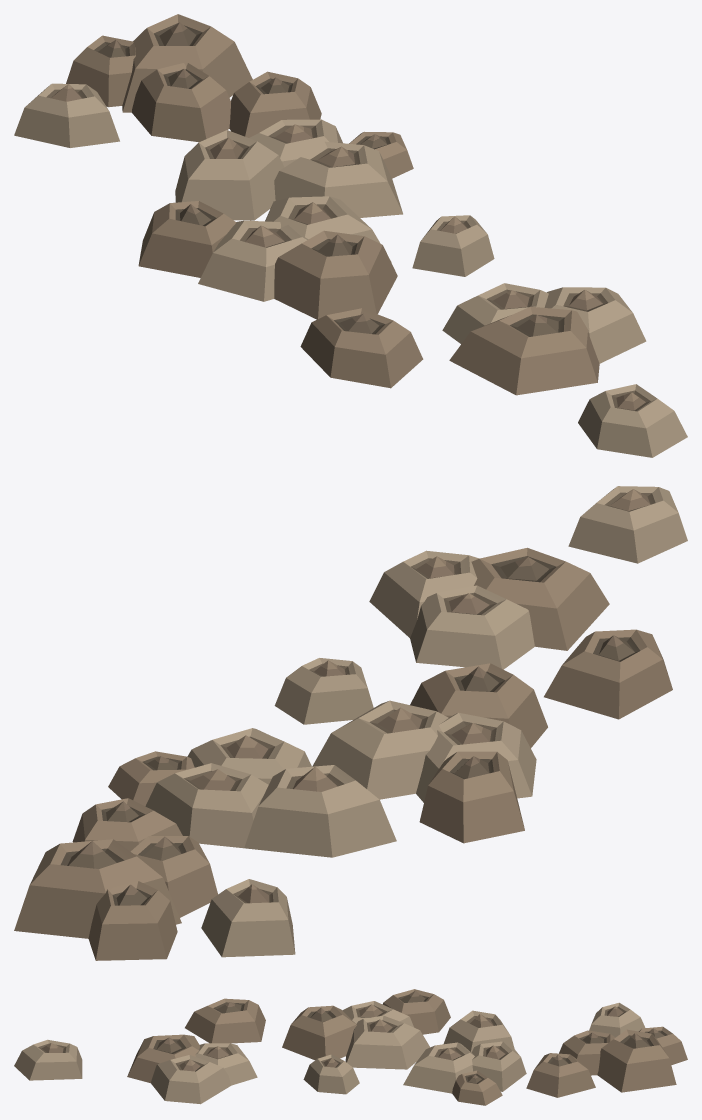
Rendered from SM_Env_Barnacles_02.fbx.
The picture shows the model from 3 angles, top to bottom: view 1: azimuth 30°, elevation 25°; view 2: azimuth 150°, elevation 25°; view 3: azimuth 270°, elevation 25°; orthographic projection. The views are drawn at different scales.
Parts seen in each view (by area): view 1: SM_Env_Barnacles_02_LOD0; view 2: SM_Env_Barnacles_02_LOD0; view 3: SM_Env_Barnacles_02_LOD0.
Boxes of the visible parts, x1,y1,x2,y2 form: SM_Env_Barnacles_02_LOD0: (14, 14, 687, 457); SM_Env_Barnacles_02_LOD0: (14, 486, 687, 960); SM_Env_Barnacles_02_LOD0: (14, 989, 687, 1105).
Size of what is drawn, in the model's own units: 52.64 by 10.24 by 154.
